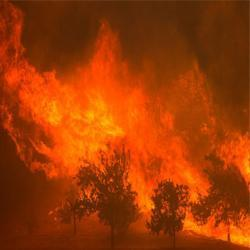fire: (41, 89, 127, 144), (232, 143, 250, 169)
